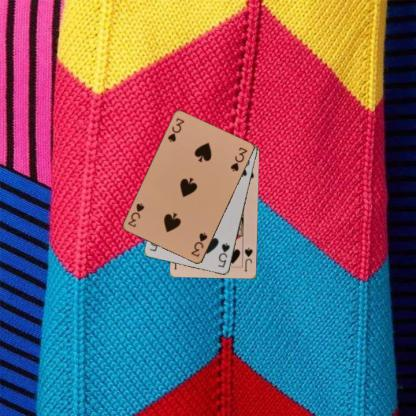3s: (188, 230, 209, 258), (166, 115, 186, 144)
5s: (216, 241, 231, 269)
Js: (242, 245, 254, 273)
